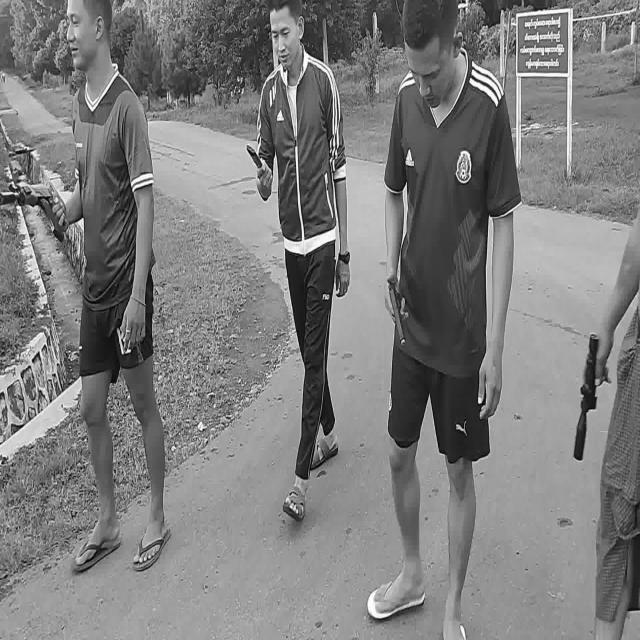gun: (1, 181, 64, 245), (388, 282, 407, 347)
